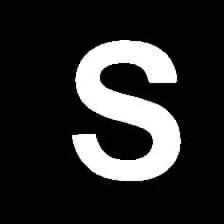LTR_S: (68, 31, 182, 185)
